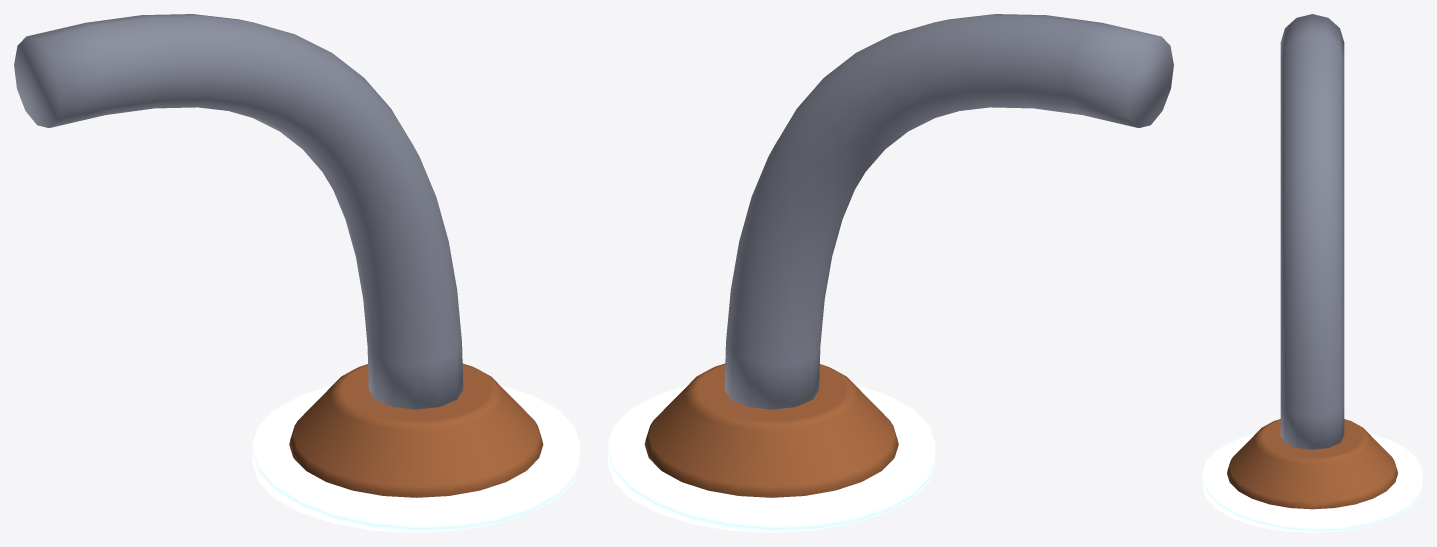
File: Drill_Leg.glb
3 views of the same model, side by side, from view 1: azimuth 30°, elevation 25°; view 2: azimuth 150°, elevation 25°; view 3: azimuth 270°, elevation 25° (orthographic). The views are drawn at different scales.
Visible parts, largest first — view 1: H_Legs.001, H_Feet.001, H_FeetNeon.001; view 2: H_Legs.001, H_Feet.001, H_FeetNeon.001; view 3: H_Legs.001, H_Feet.001, H_FeetNeon.001.
Boxes of the visible parts, x1=… form: H_Legs.001: x1=14, y1=14, x2=463, y2=409; H_Feet.001: x1=289, y1=363, x2=543, y2=497; H_FeetNeon.001: x1=252, y1=384, x2=579, y2=532; H_Legs.001: x1=724, y1=14, x2=1173, y2=409; H_Feet.001: x1=644, y1=363, x2=898, y2=497; H_FeetNeon.001: x1=608, y1=384, x2=935, y2=532; H_Legs.001: x1=1280, y1=14, x2=1344, y2=449; H_Feet.001: x1=1227, y1=419, x2=1397, y2=509; H_FeetNeon.001: x1=1202, y1=433, x2=1422, y2=532.
Size of the model in its own units: 2.25 by 2.14 by 1.23.
